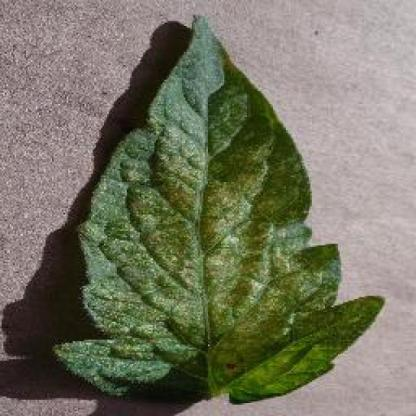Tomato_Spider_Mites: (56, 14, 385, 400)
